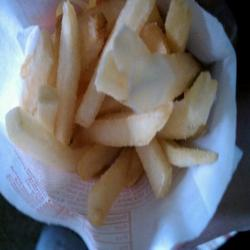fries: (25, 15, 216, 205)
